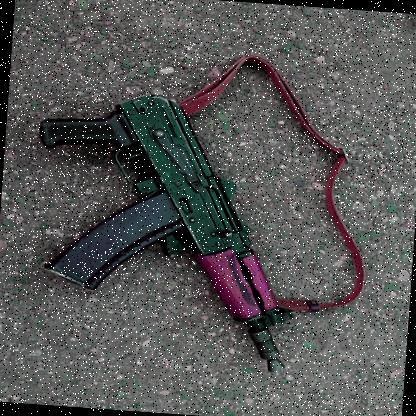rifle: (16, 75, 346, 376)
